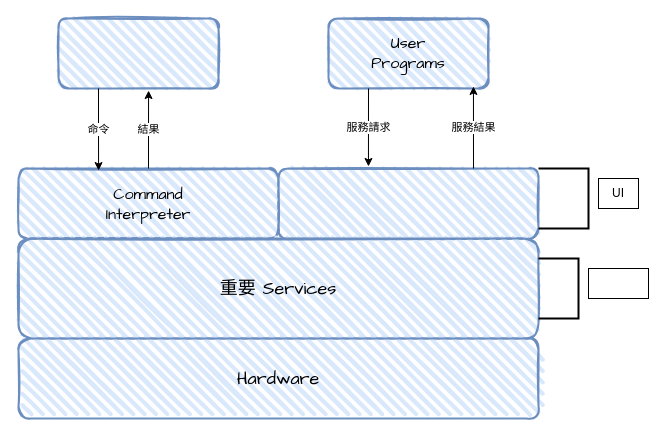
Image size: 666x436. Some labels were removed from this diagram. Each missing label, with the centre of its shape:
"Kernel" belongs at point (618, 283).
"System Calls" belongs at point (408, 203).
"User (人)" belongs at point (138, 53).
